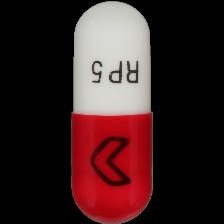63187-675: (0, 0, 224, 224)
